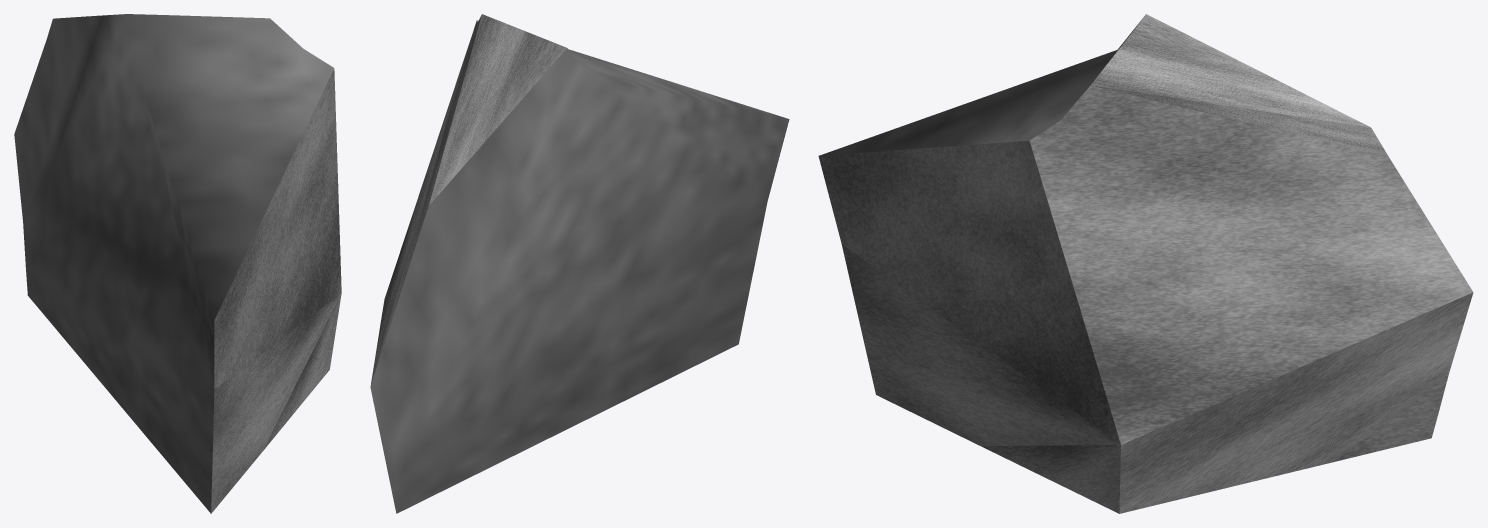
The model's file is leg_3_cell_005.fbx.
3 views of the same model, side by side, from view 1: azimuth 30°, elevation 25°; view 2: azimuth 150°, elevation 25°; view 3: azimuth 270°, elevation 25° (orthographic). The views are drawn at different scales.
Visible parts, largest first — view 1: leg_3_cell.005; view 2: leg_3_cell.005; view 3: leg_3_cell.005.
Part boxes in pixels (x1=…): leg_3_cell.005: x1=14, y1=14, x2=341, y2=513; leg_3_cell.005: x1=370, y1=14, x2=789, y2=513; leg_3_cell.005: x1=818, y1=14, x2=1473, y2=513.
Size of the model in its own units: 11.72 by 16.04 by 23.53.
